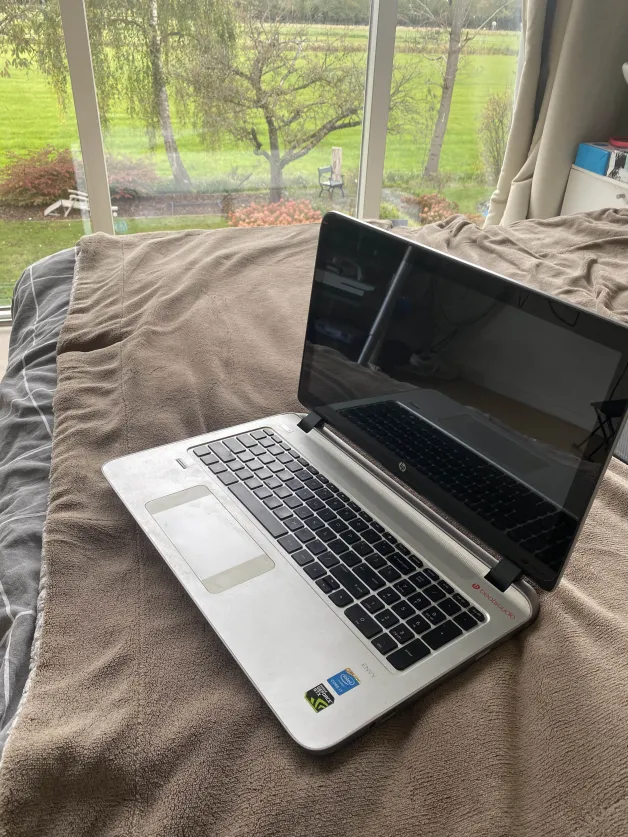laptop: (92, 197, 628, 769)
